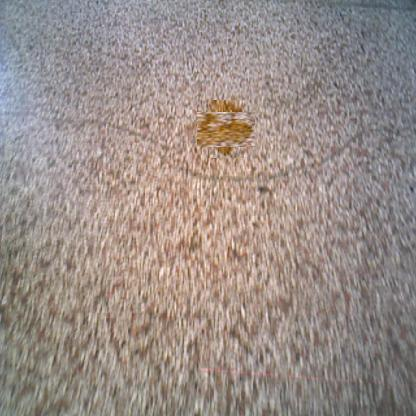liquid: (202, 105, 249, 153)
